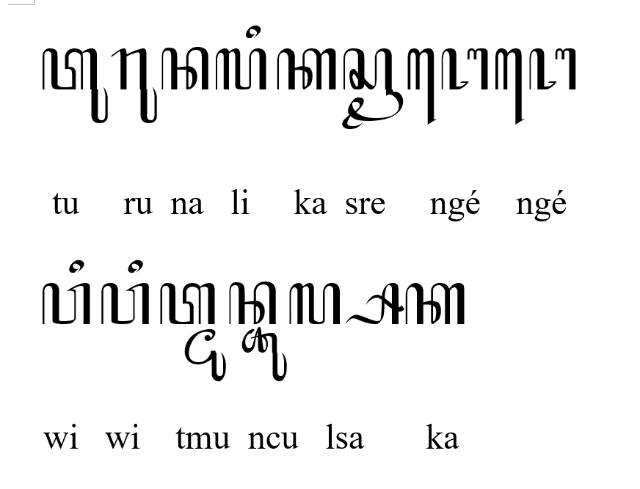_cu: (242, 326, 288, 382)
_mu: (184, 328, 226, 382)
_s: (346, 282, 404, 324)
e1: (407, 48, 438, 124), (494, 48, 524, 124)
i: (68, 258, 84, 274), (127, 260, 143, 274), (246, 24, 260, 38)
k: (405, 282, 465, 326), (276, 48, 338, 90)
l: (215, 47, 268, 91), (288, 282, 340, 326)
n: (160, 46, 210, 91), (229, 282, 277, 326)
nga: (440, 47, 490, 91), (528, 47, 578, 91)
ru: (110, 46, 158, 123)
sre: (341, 46, 404, 130)
t: (160, 282, 216, 326)
tu: (42, 46, 108, 123)
w: (100, 281, 150, 325), (41, 283, 90, 325)
